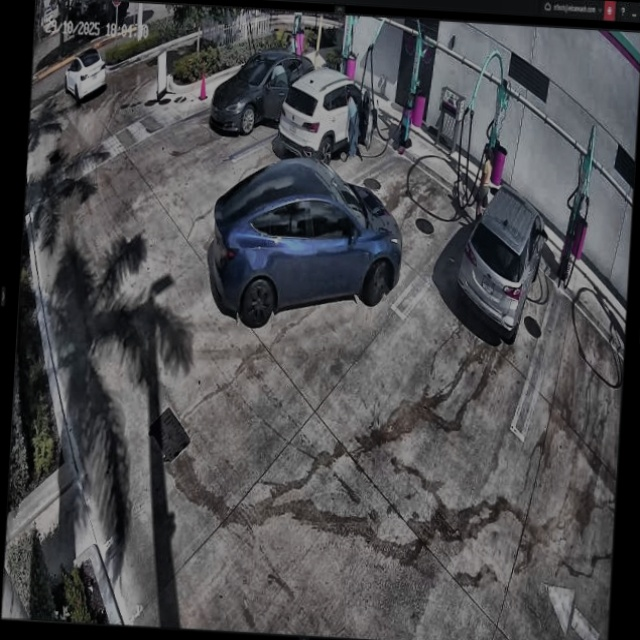Car: (215, 158, 405, 333), (453, 178, 548, 346), (275, 62, 379, 170)
